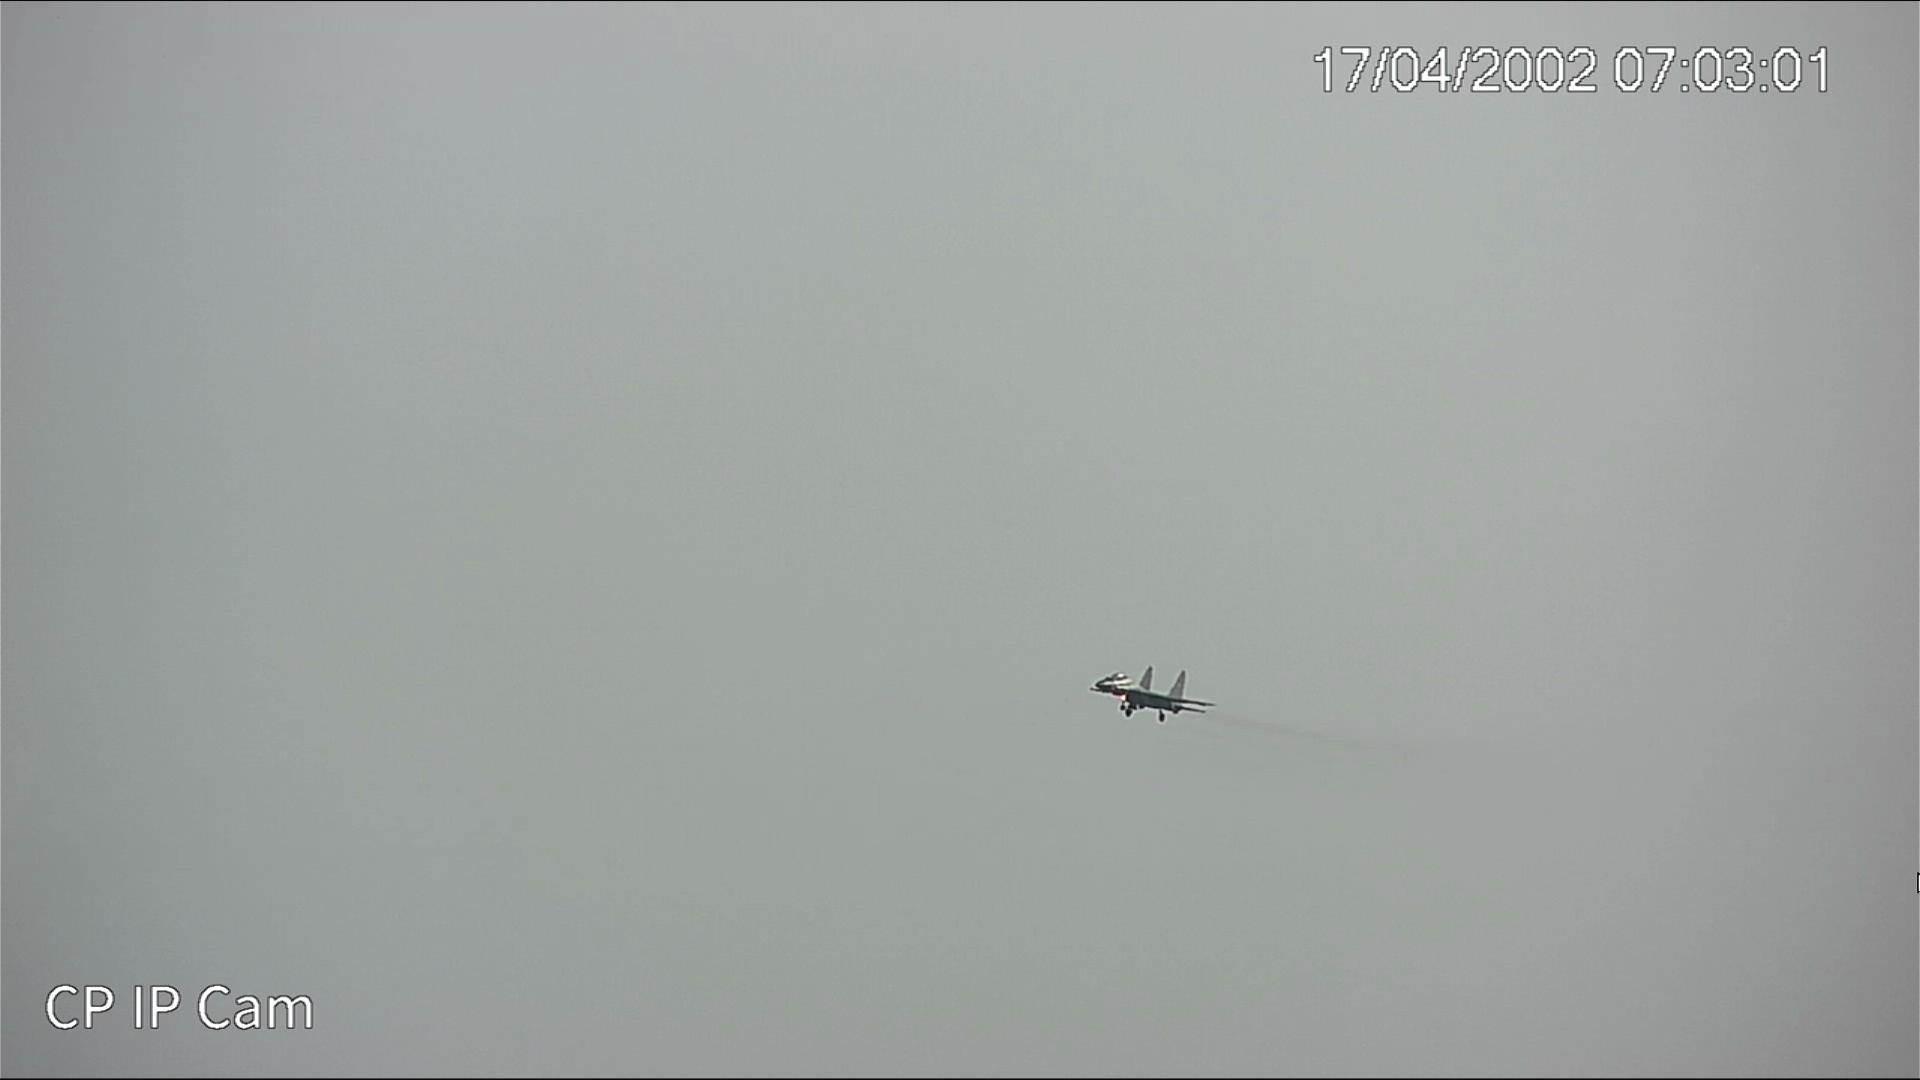SU_30: (1093, 667, 1211, 720)
